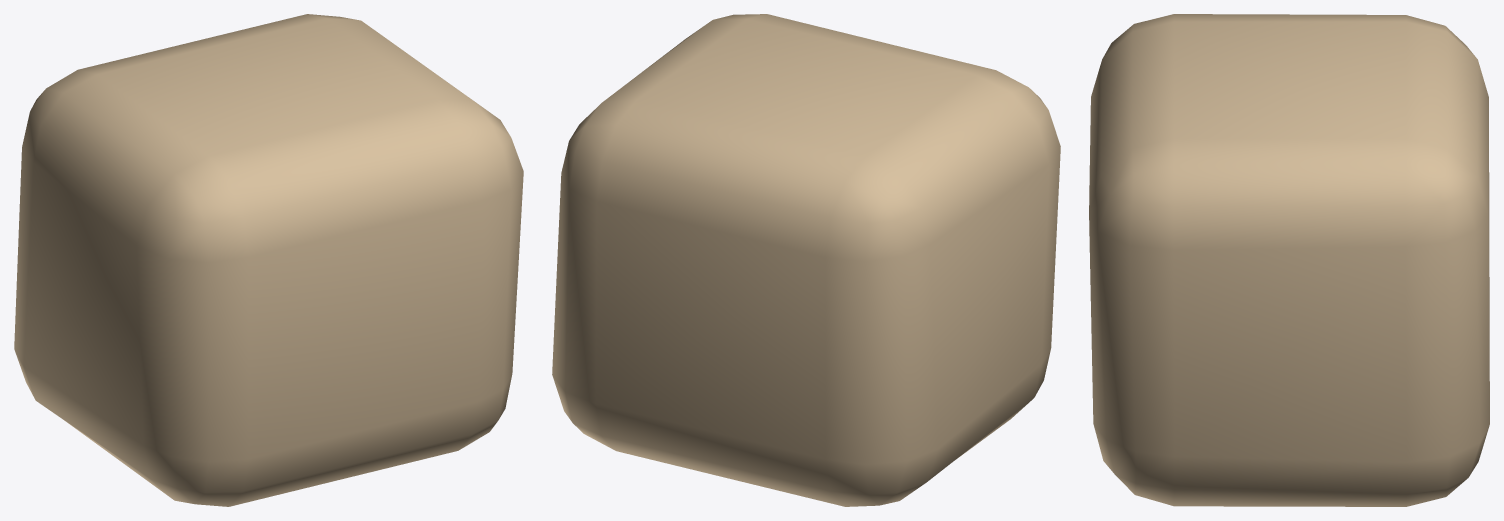
Rendered from MAUER_18.glb.
3 views of the same model, side by side, from view 1: azimuth 30°, elevation 25°; view 2: azimuth 150°, elevation 25°; view 3: azimuth 270°, elevation 25° (orthographic). The views are drawn at different scales.
Visible parts, largest first — view 1: MAUER_18; view 2: MAUER_18; view 3: MAUER_18.
Part boxes in pixels (x1=…): MAUER_18: x1=14, y1=14, x2=523, y2=506; MAUER_18: x1=552, y1=14, x2=1060, y2=506; MAUER_18: x1=1089, y1=14, x2=1489, y2=506.
Bounding box in the file's own units: 0.8206 × 0.7204 × 0.7257.
